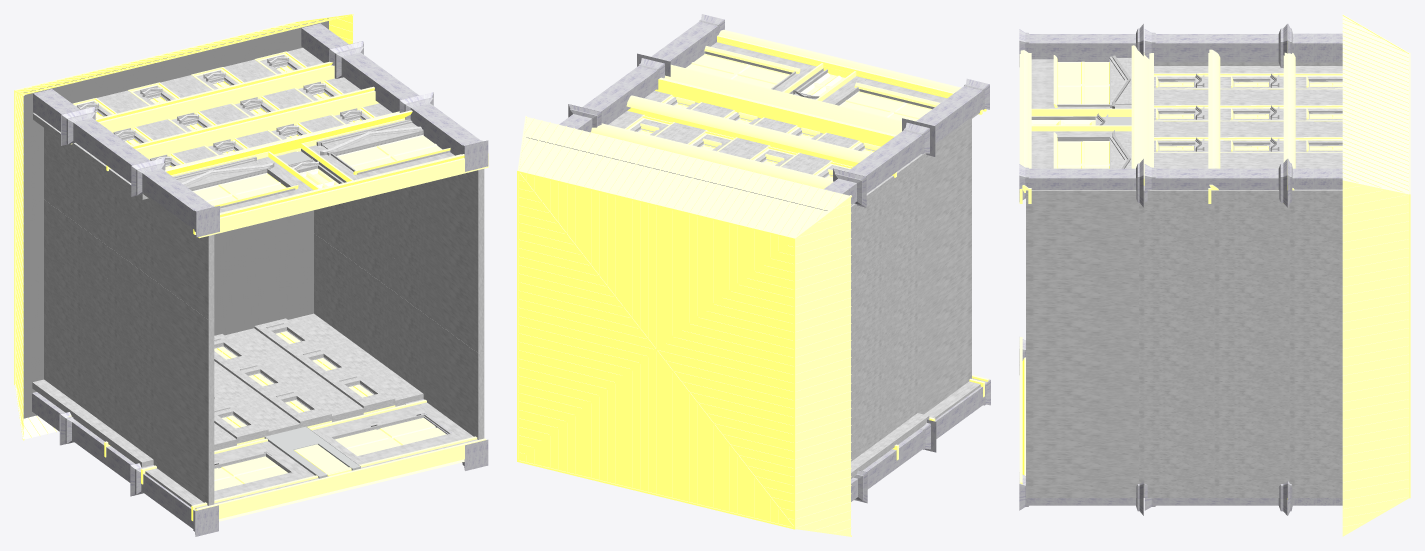
The model's file is Victorian Building 00.fbx.
3 views of the same model, side by side, from view 1: azimuth 30°, elevation 25°; view 2: azimuth 150°, elevation 25°; view 3: azimuth 270°, elevation 25° (orthographic). The views are drawn at different scales.
Parts seen in each view (by area): view 1: LOD 00; view 2: LOD 00; view 3: LOD 00.
Boxes of the visible parts, left/top/right/bottom form: LOD 00: left=14, top=14, right=488, bottom=536; LOD 00: left=517, top=14, right=990, bottom=536; LOD 00: left=1019, top=14, right=1410, bottom=536.
Size of what is drawn, in the model's own units: 20.86 by 20.87 by 20.74.
